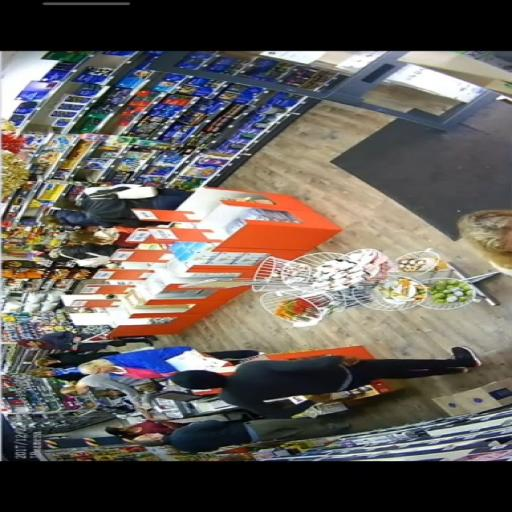workers: (49, 186, 147, 238), (29, 237, 118, 269)
